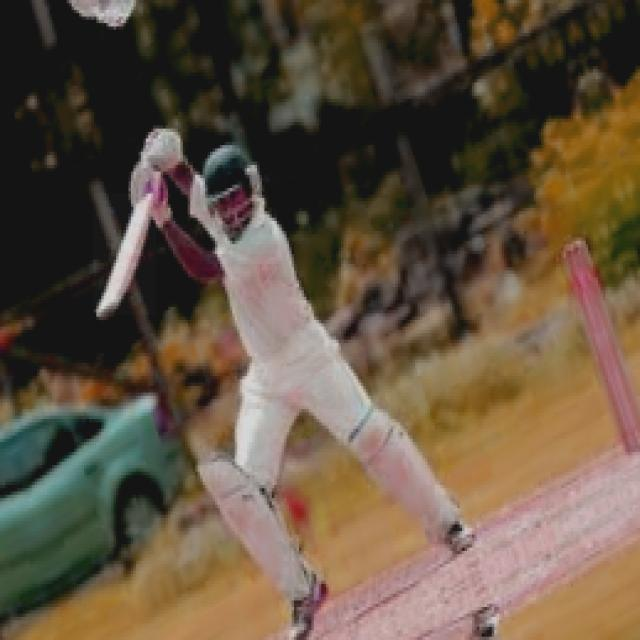bat: (84, 179, 160, 326)
toe: (86, 299, 124, 320)
